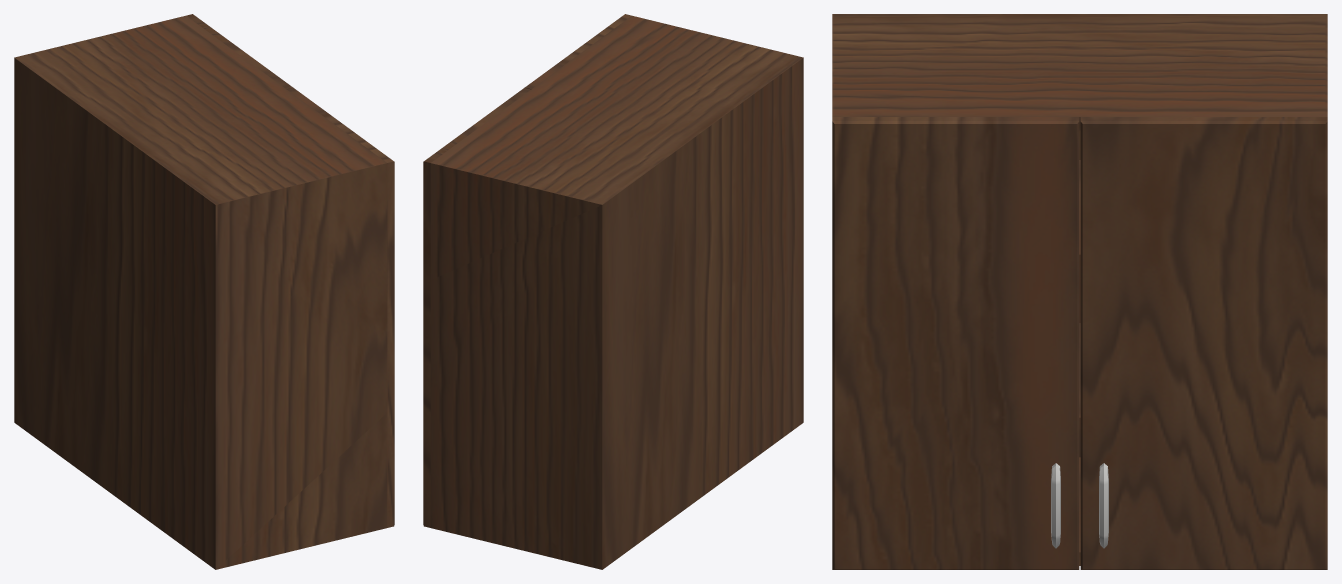
Rendered from Cupboard.obj.
The picture shows the model from 3 angles, left to right: view 1: azimuth 30°, elevation 25°; view 2: azimuth 150°, elevation 25°; view 3: azimuth 270°, elevation 25°; orthographic projection. The views are drawn at different scales.
Parts seen in each view (by area): view 1: KitchenCupboard; view 2: KitchenCupboard; view 3: KitchenCupboard.
Part boxes in pixels (left/top/right/bottom): KitchenCupboard: left=14, top=14, right=394, bottom=569; KitchenCupboard: left=423, top=14, right=803, bottom=569; KitchenCupboard: left=832, top=14, right=1327, bottom=569.
Bounding box in the file's own units: 0.4353 × 0.8 × 0.8.
